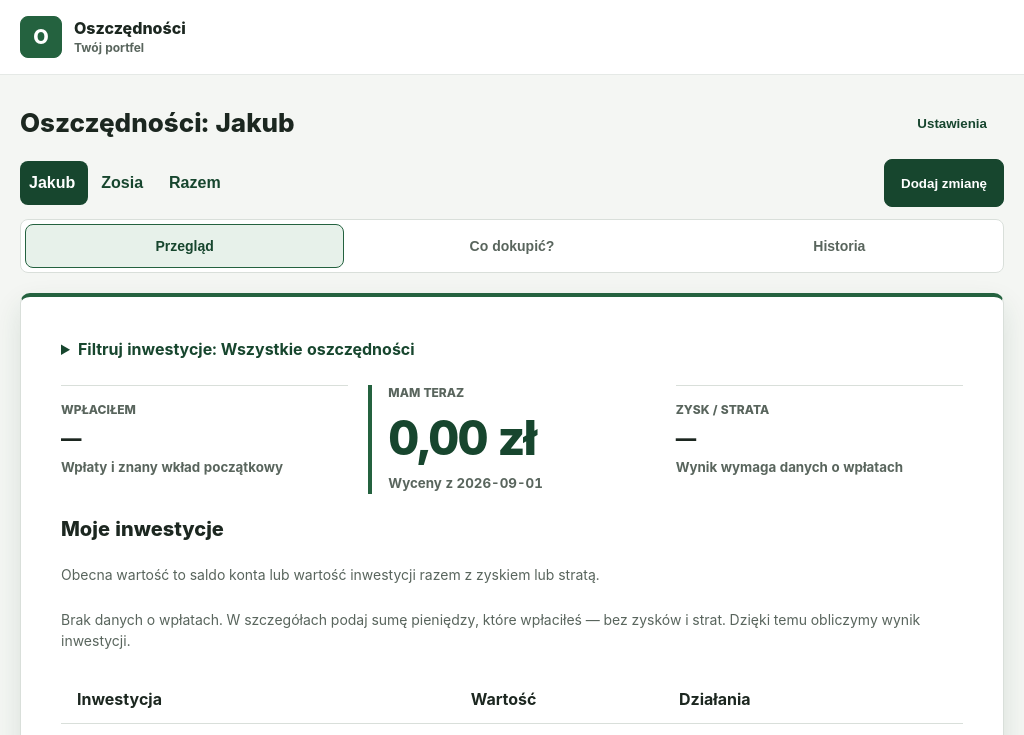
Test: Savings workspace › selects the investment before offering actions and updates them for each holding
Click the button "Dodaj zmianę": click(944, 183) [884,159,1004,207]
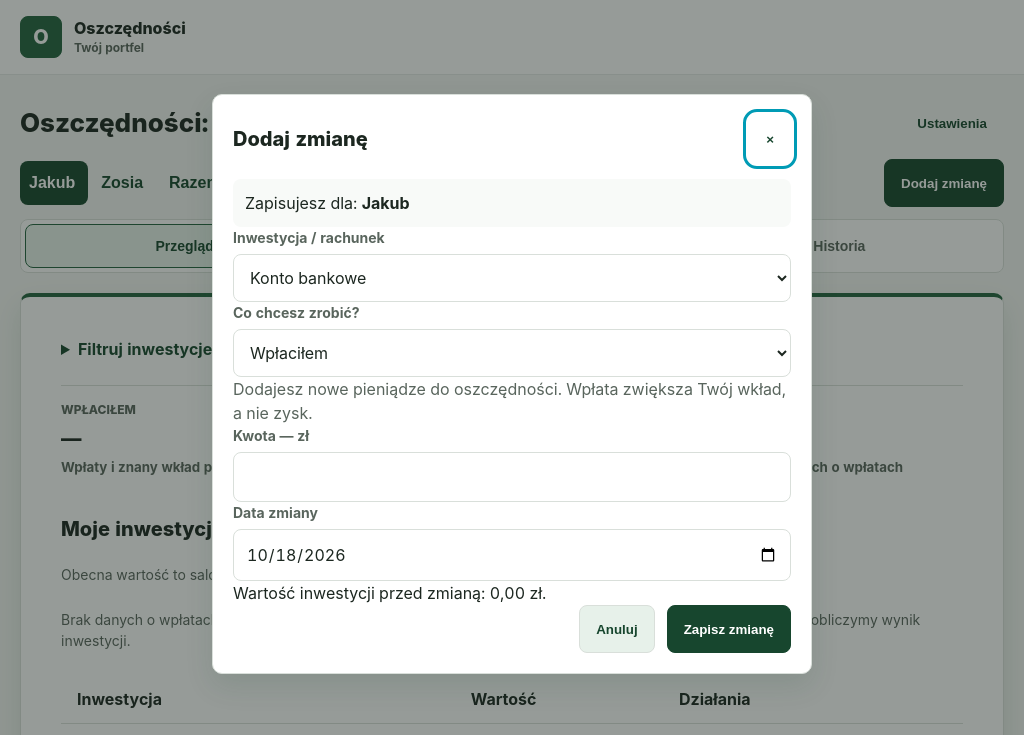
Expected: the option "Wpisuję stan początkowy" is not shown
Select "IKE" in the dropdown labelled "Inwestycja / rachunek": (512, 278) [233,254,791,302]
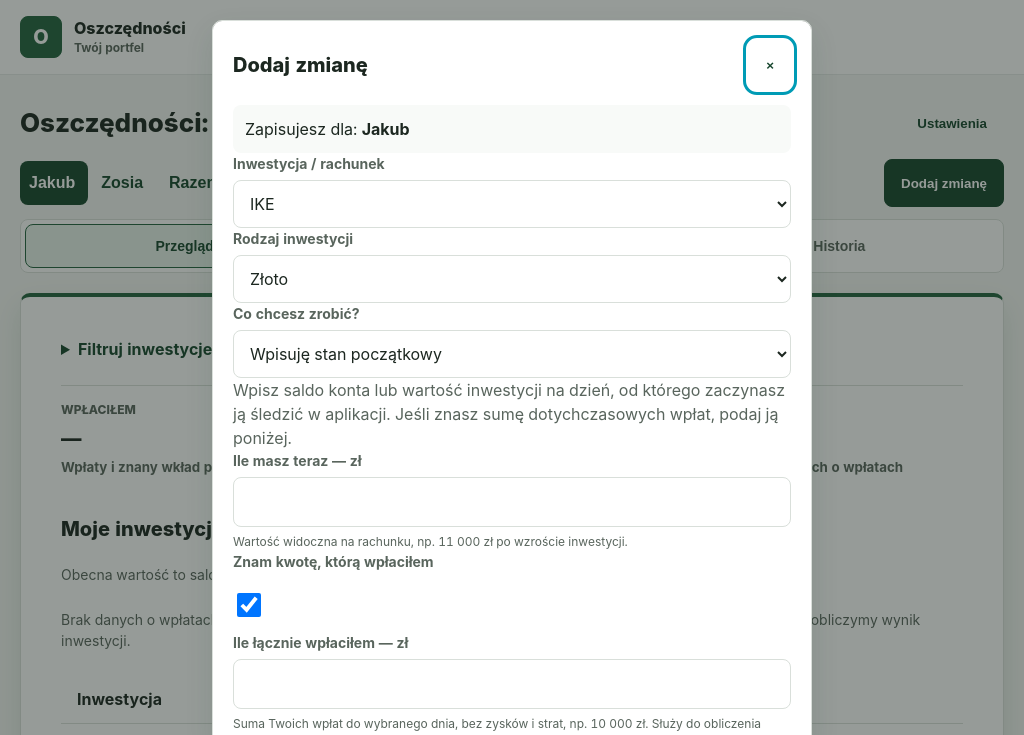
Now the dropdown labelled "Co chcesz zrobić?" shows "Wpisuję stan początkowy", box [233,330,791,378]
In the number field labelled "Ile masz teraz — zł": (512, 502) [233,477,791,527], type "500"
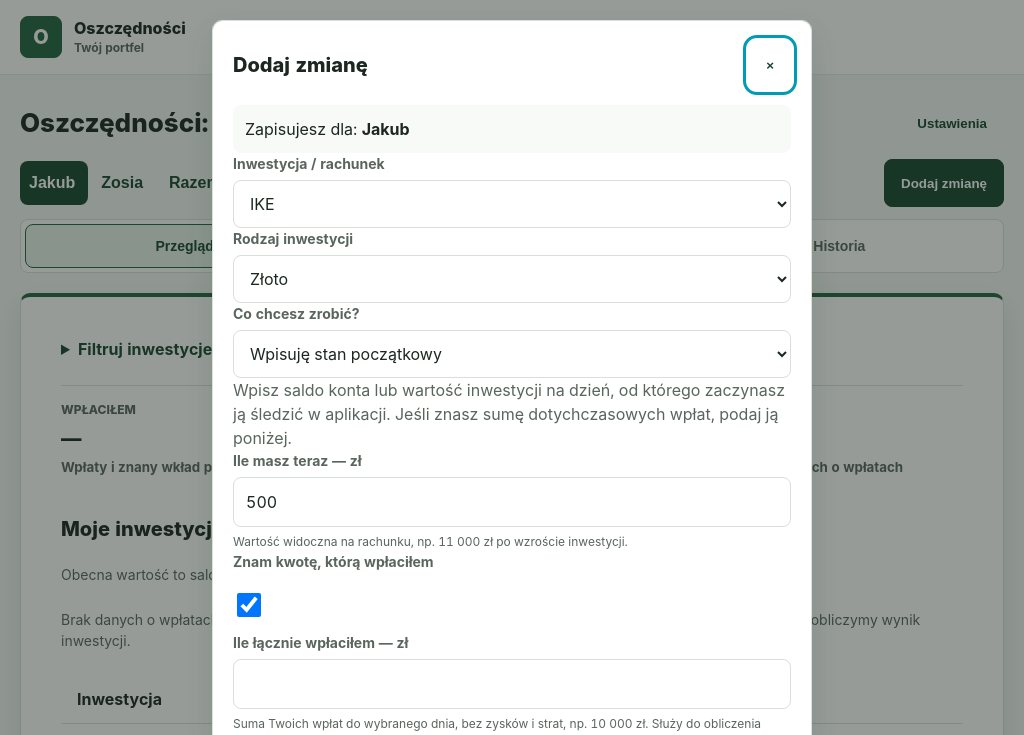
Select "Konto bankowe" in the dropdown labelled "Inwestycja / rachunek": (512, 204) [233,180,791,228]
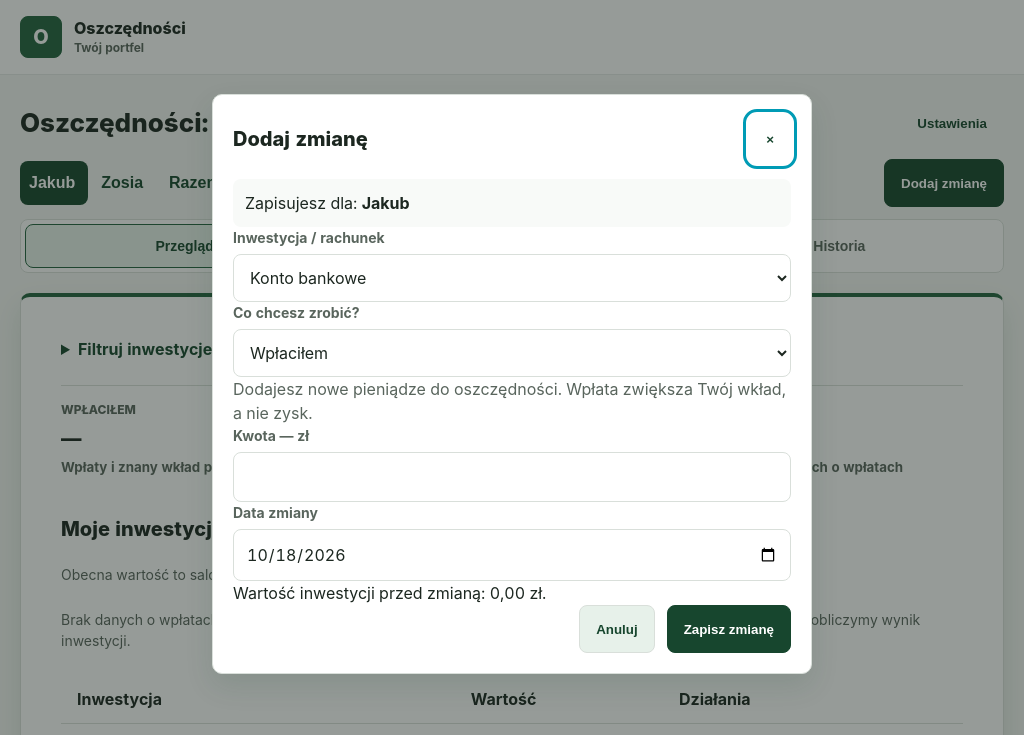
Now the dropdown labelled "Co chcesz zrobić?" shows "Wpłaciłem", box [233,329,791,377]
Now the number field labelled "Kwota — zł" is not empty, box [233,452,791,502]
Select "Wybierz inwestycję" in the dropdown labelled "Inwestycja / rachunek": (512, 278) [233,254,791,302]
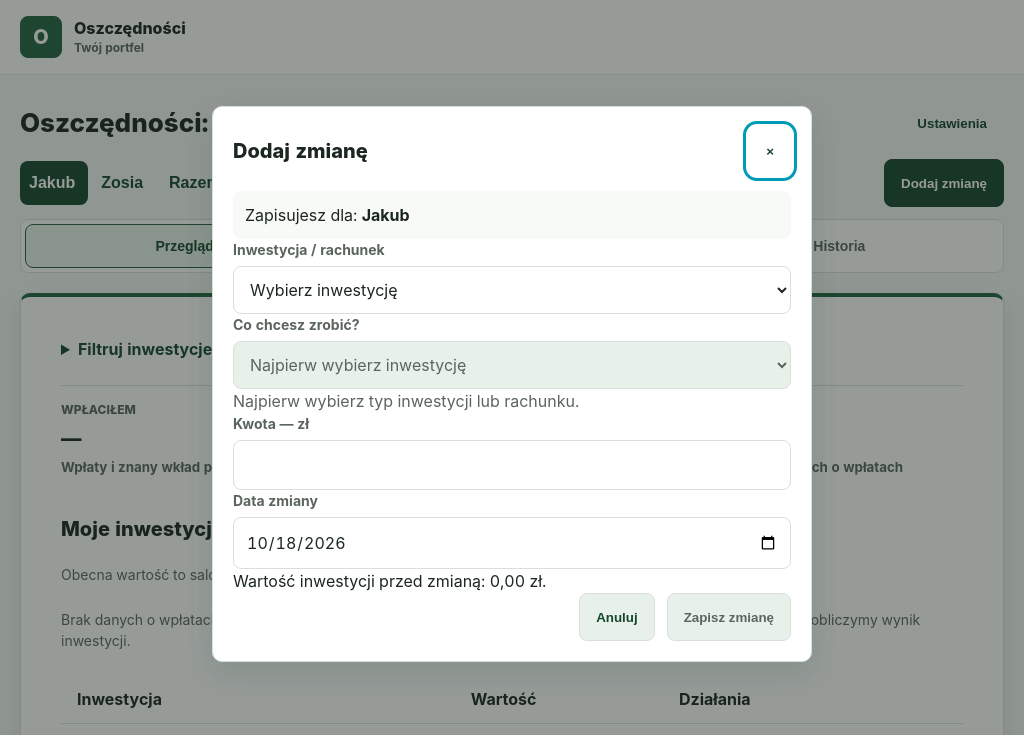
Now the dropdown labelled "Co chcesz zrobić?" is disabled, box [233,341,791,389]
Now the button "Zapisz zmianę" is disabled, box [667,593,791,641]
